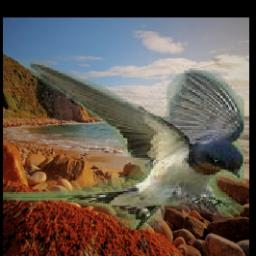Swallow: (3, 57, 244, 230)
